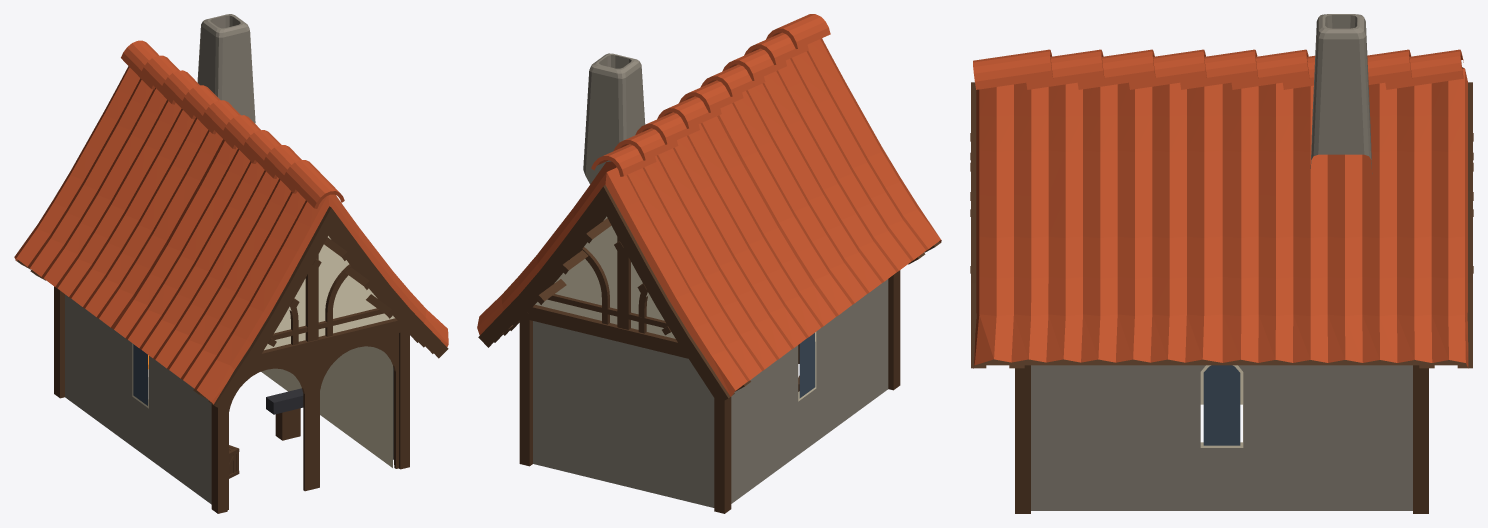
The model's file is smithy.obj.
The picture shows the model from 3 angles, left to right: view 1: azimuth 30°, elevation 25°; view 2: azimuth 150°, elevation 25°; view 3: azimuth 270°, elevation 25°; orthographic projection. The views are drawn at different scales.
Bounding box in the file's own units: 5.51 × 7.63 × 7.59.
